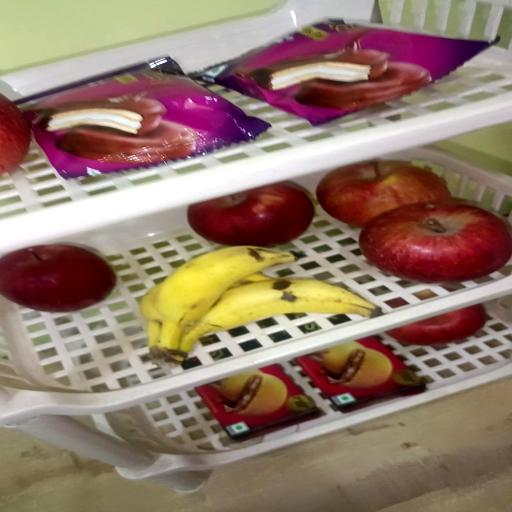Apple: (359, 203, 512, 283), (316, 160, 451, 227), (187, 183, 314, 247), (0, 244, 116, 313), (386, 304, 487, 345), (0, 94, 31, 174)
Choco Fills: (296, 337, 426, 411), (196, 365, 320, 442)
Choco Pie: (199, 19, 497, 125), (18, 56, 269, 178)
